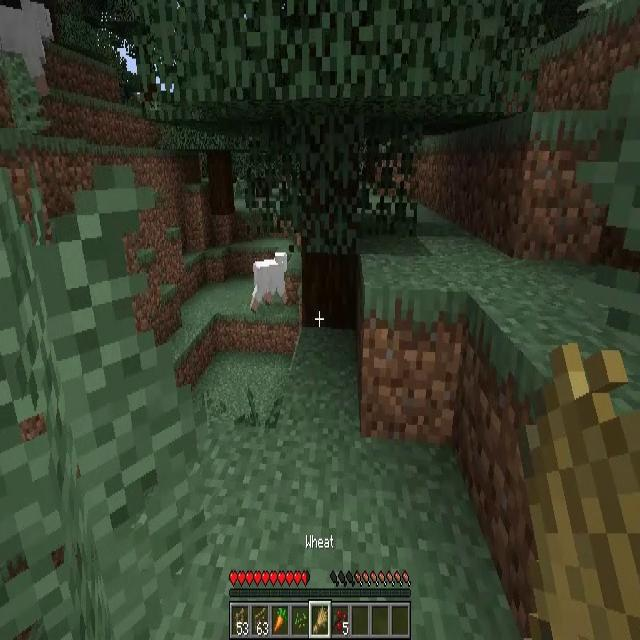sheep: (251, 252, 289, 310)
